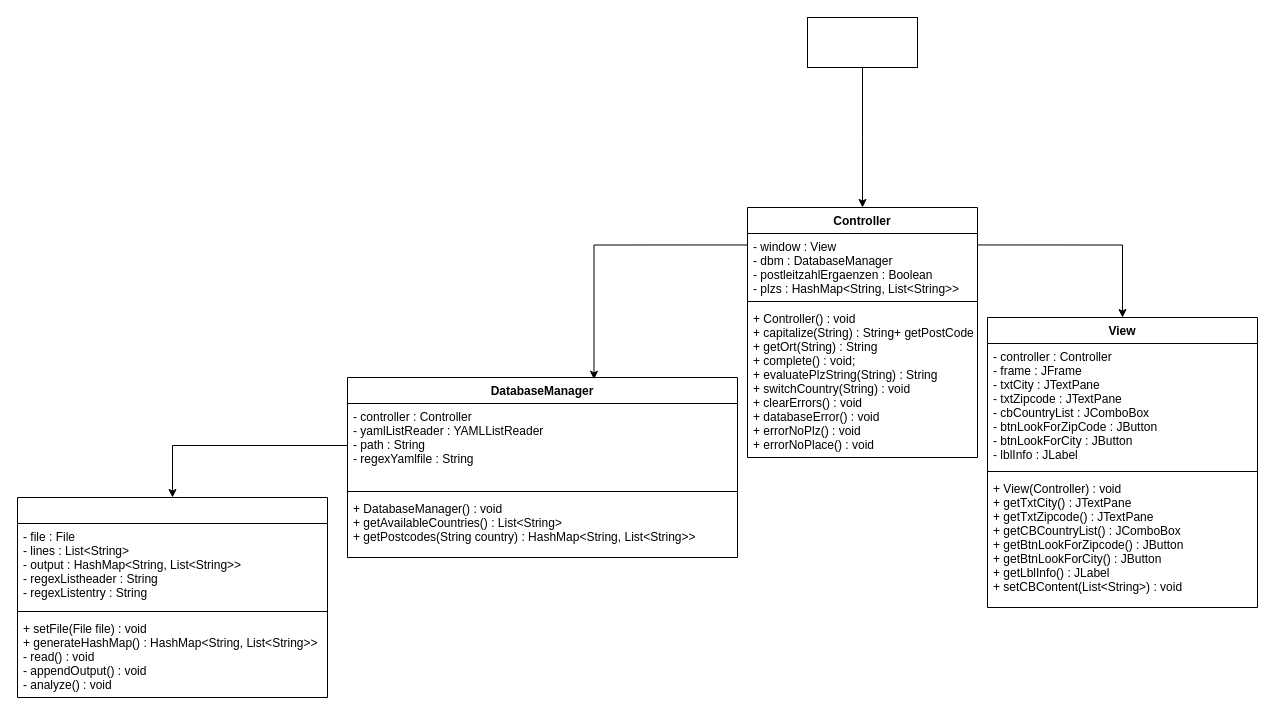
Image size: 1275x718. Some labels were removed from this diagram. Each missing label, with the box of its shape:
Main: (806, 16, 918, 68)
YAMLListReader: (16, 496, 328, 698)
